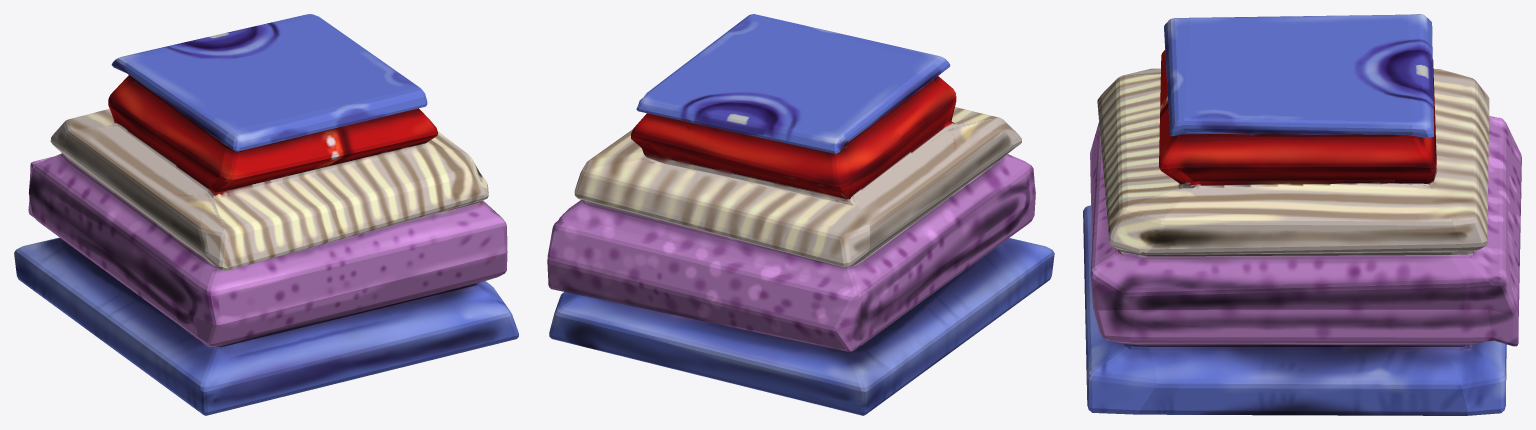
Rendered from pranium.fbx.
3 renders of one model, left to right at view 1: azimuth 30°, elevation 25°; view 2: azimuth 150°, elevation 25°; view 3: azimuth 270°, elevation 25°, orthographic. The views are drawn at different scales.
Parts seen in each view (by area): view 1: Cube; view 2: Cube; view 3: Cube.
Boxes of the visible parts, left/top/right/bottom form: Cube: left=14, top=14, right=518, bottom=415; Cube: left=547, top=14, right=1054, bottom=415; Cube: left=1083, top=14, right=1521, bottom=415.
Bounding box in the file's own units: 1.72 × 1.25 × 1.79.
1 material, 1 textured.
